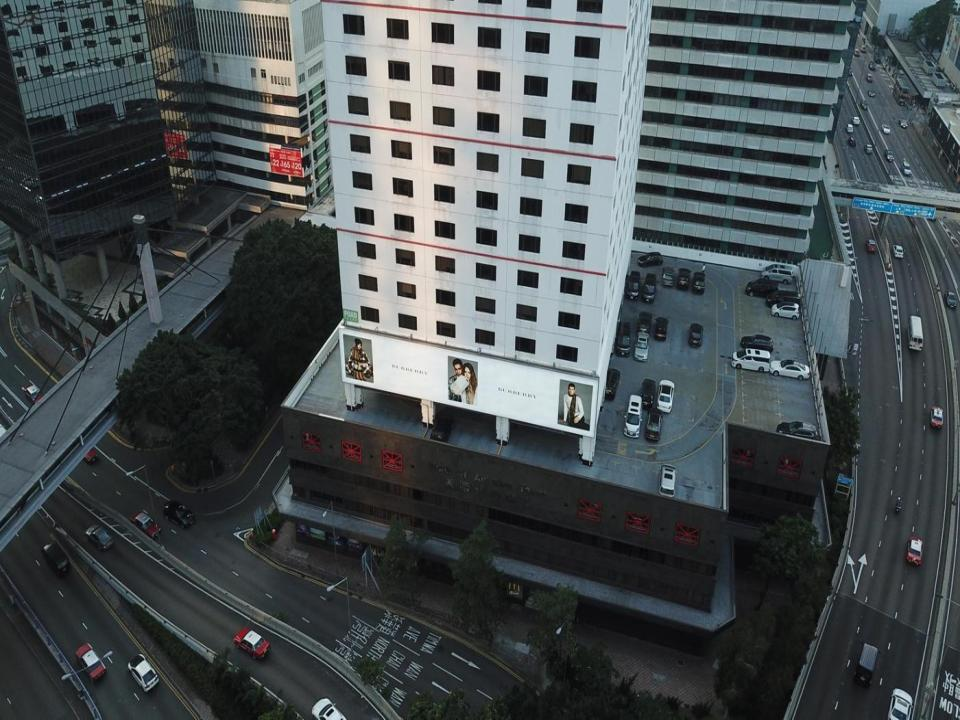bus: (906, 314, 924, 352)
car: (38, 542, 73, 579), (234, 626, 271, 661), (128, 652, 160, 692), (76, 640, 106, 677), (312, 694, 354, 719), (906, 528, 932, 568), (885, 685, 915, 719), (771, 358, 811, 380), (84, 523, 114, 552), (162, 502, 196, 527), (134, 509, 161, 540), (20, 379, 46, 406), (72, 435, 99, 460), (655, 380, 676, 412), (601, 364, 620, 398), (742, 334, 774, 351), (646, 414, 664, 440), (628, 264, 639, 305), (762, 290, 795, 302), (690, 323, 705, 349), (646, 270, 658, 302), (618, 319, 629, 353), (772, 305, 800, 318), (642, 380, 653, 412), (636, 251, 661, 265), (929, 401, 943, 426), (656, 316, 670, 340), (870, 60, 883, 85), (636, 329, 646, 359), (662, 262, 673, 287), (638, 314, 650, 336), (945, 293, 959, 310), (852, 112, 863, 131), (865, 69, 878, 85), (695, 274, 706, 292), (892, 246, 905, 261), (867, 237, 880, 252), (901, 158, 911, 177), (882, 120, 894, 135), (680, 268, 688, 290), (852, 42, 864, 55), (899, 116, 908, 133), (884, 146, 892, 165), (846, 117, 854, 136), (846, 137, 858, 148), (862, 98, 868, 120), (864, 144, 873, 156), (870, 85, 876, 99)
van: (856, 640, 879, 684), (730, 347, 772, 370), (758, 262, 801, 282), (622, 393, 640, 438), (745, 281, 793, 295)
